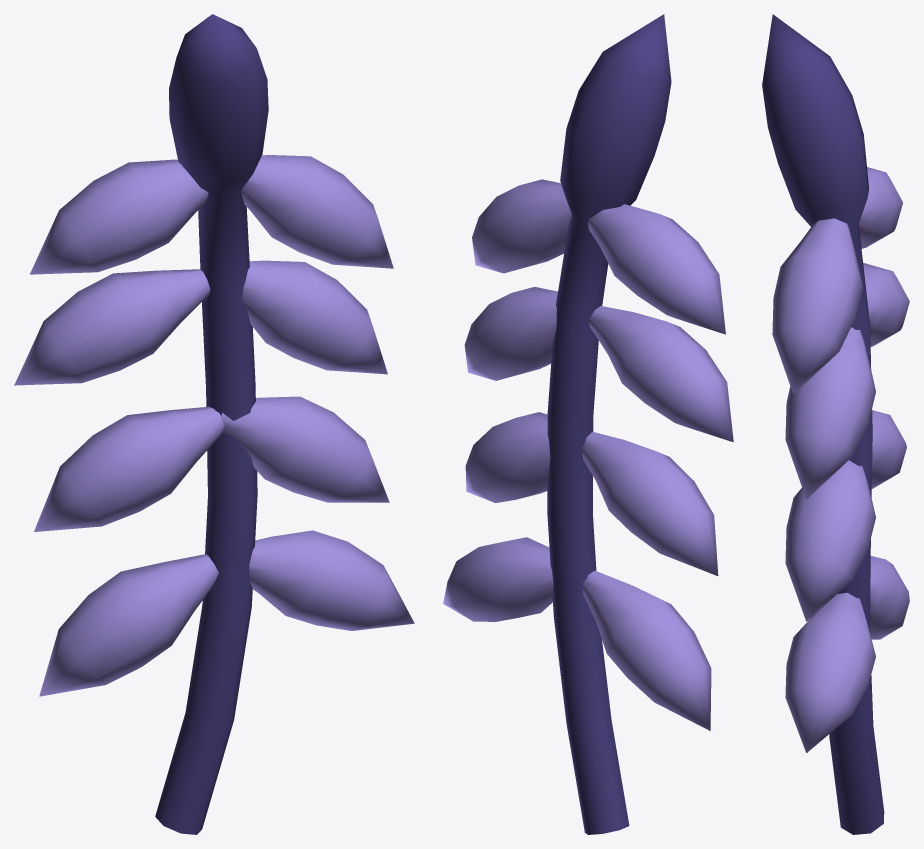
The model's file is Coral_32.fbx.
3 views of the same model, side by side, from view 1: azimuth 30°, elevation 25°; view 2: azimuth 150°, elevation 25°; view 3: azimuth 270°, elevation 25° (orthographic). The views are drawn at different scales.
Parts seen in each view (by area): view 1: Coral_32; view 2: Coral_32; view 3: Coral_32.
Part boxes in pixels (<box>): Coral_32: <box>14,14,414,834</box>; Coral_32: <box>443,14,733,834</box>; Coral_32: <box>762,14,909,834</box>.
Size of the model in its own units: 46.46 by 106 by 17.66.
